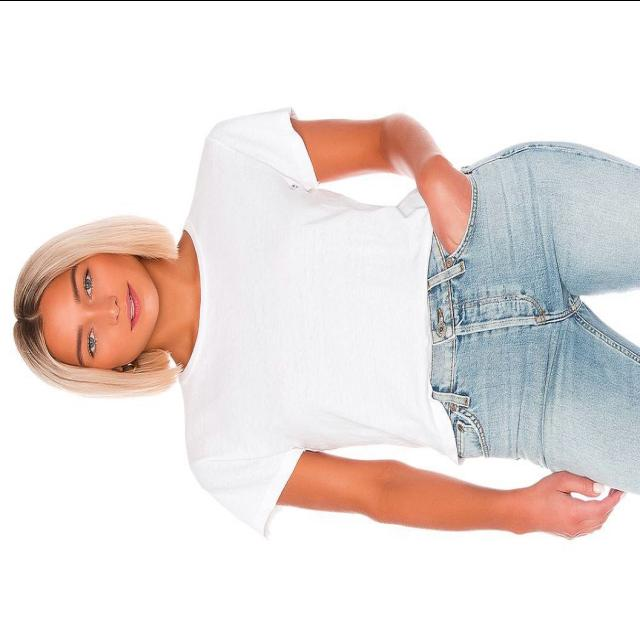shoulder: (180, 108, 278, 506)
